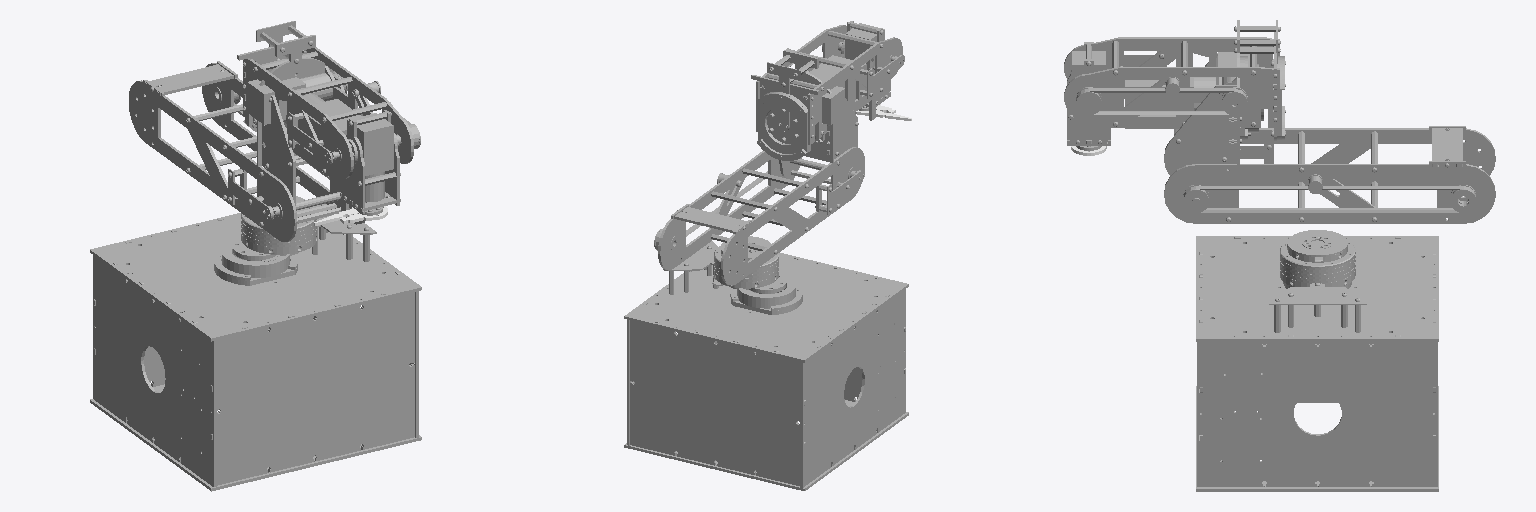
robot.urdf — urdf3:
<?xml version="1.0" encoding="utf-8"?>
<!-- This URDF was automatically created by SolidWorks to URDF Exporter! Originally created by [author] ([email redacted]) 
     Commit Version: 1.6.0-1-g15f4949  Build Version: 1.6.7594.29634
     For more information, please see http://wiki.ros.org/sw_urdf_exporter -->
<robot
  name="urdf3">
  <link
    name="base_link">
    <inertial>
      <origin
        xyz="-0.14899 0.15002 -0.0759"
        rpy="0 0 0" />
      <mass
        value="1.9822" />
      <inertia
        ixx="0.012049"
        ixy="1.1566E-08"
        ixz="1.8132E-07"
        iyy="0.011641"
        iyz="1.7455E-07"
        izz="0.016009" />
    </inertial>
    <visual>
      <origin
        xyz="0 0 0"
        rpy="0 0 0" />
      <geometry>
        <mesh
          filename="package://urdf3/meshes/base_link.STL" />
      </geometry>
      <material
        name="">
        <color
          rgba="0.75294 0.75294 0.75294 1" />
      </material>
    </visual>
    <collision>
      <origin
        xyz="0 0 0"
        rpy="0 0 0" />
      <geometry>
        <mesh
          filename="package://urdf3/meshes/base_link.STL" />
      </geometry>
    </collision>
  </link>
  <link
    name="link1">
    <inertial>
      <origin
        xyz="-0.0013865 0.15276 0.088653"
        rpy="0 0 0" />
      <mass
        value="1.3755" />
      <inertia
        ixx="0.0017311"
        ixy="4.6286E-06"
        ixz="5.0014E-06"
        iyy="0.002521"
        iyz="-0.00028073"
        izz="0.0030047" />
    </inertial>
    <visual>
      <origin
        xyz="0 0 0"
        rpy="0 0 0" />
      <geometry>
        <mesh
          filename="package://urdf3/meshes/link1.STL" />
      </geometry>
      <material
        name="">
        <color
          rgba="0.75294 0.75294 0.75294 1" />
      </material>
    </visual>
    <collision>
      <origin
        xyz="0 0 0"
        rpy="0 0 0" />
      <geometry>
        <mesh
          filename="package://urdf3/meshes/link1.STL" />
      </geometry>
    </collision>
  </link>
  <joint
    name="joint1"
    type="revolute">
    <origin
      xyz="-0.15 0.15 0.0375"
      rpy="0 0 0" />
    <parent
      link="base_link" />
    <child
      link="link1" />
    <axis
      xyz="0 0 1" />
    <limit
      lower="0"
      upper="0"
      effort="0"
      velocity="0" />
  </joint>
  <link
    name="link2">
    <inertial>
      <origin
        xyz="-0.17171 -0.0022525 0.037709"
        rpy="0 0 0" />
      <mass
        value="0.2987" />
      <inertia
        ixx="0.00016953"
        ixy="5.2701E-06"
        ixz="-9.0978E-13"
        iyy="0.0029683"
        iyz="-8.8435E-13"
        izz="0.0030499" />
    </inertial>
    <visual>
      <origin
        xyz="0 0 0"
        rpy="0 0 0" />
      <geometry>
        <mesh
          filename="package://urdf3/meshes/link2.STL" />
      </geometry>
      <material
        name="">
        <color
          rgba="0.75294 0.75294 0.75294 1" />
      </material>
    </visual>
    <collision>
      <origin
        xyz="0 0 0"
        rpy="0 0 0" />
      <geometry>
        <mesh
          filename="package://urdf3/meshes/link2.STL" />
      </geometry>
    </collision>
  </link>
  <joint
    name="joint2"
    type="revolute">
    <origin
      xyz="0.0495 0.18 0.118"
      rpy="-1.5708 0 1.5708" />
    <parent
      link="link1" />
    <child
      link="link2" />
    <axis
      xyz="0 0 -1" />
    <limit
      lower="0"
      upper="0"
      effort="0"
      velocity="0" />
  </joint>
  <link
    name="link3">
    <inertial>
      <origin
        xyz="0.0052197 -0.10068 -0.044998"
        rpy="0 0 0" />
      <mass
        value="0.69326" />
      <inertia
        ixx="0.00064304"
        ixy="3.0941E-05"
        ixz="-7.9077E-09"
        iyy="0.00097281"
        iyz="-6.2841E-09"
        izz="0.0011748" />
    </inertial>
    <visual>
      <origin
        xyz="0 0 0"
        rpy="0 0 0" />
      <geometry>
        <mesh
          filename="package://urdf3/meshes/link3.STL" />
      </geometry>
      <material
        name="">
        <color
          rgba="0.75294 0.75294 0.75294 1" />
      </material>
    </visual>
    <collision>
      <origin
        xyz="0 0 0"
        rpy="0 0 0" />
      <geometry>
        <mesh
          filename="package://urdf3/meshes/link3.STL" />
      </geometry>
    </collision>
  </link>
  <joint
    name="joint3"
    type="revolute">
    <origin
      xyz="-0.33 -0.00015681 0.095"
      rpy="0 0 0" />
    <parent
      link="link2" />
    <child
      link="link3" />
    <axis
      xyz="0 0 -1" />
    <limit
      lower="0"
      upper="0"
      effort="0"
      velocity="0" />
  </joint>
  <link
    name="link4">
    <inertial>
      <origin
        xyz="-0.0020304 -0.018808 0.072716"
        rpy="0 0 0" />
      <mass
        value="0.43855" />
      <inertia
        ixx="0.0009677"
        ixy="1.2408E-08"
        ixz="8.7228E-13"
        iyy="0.00096859"
        iyz="-5.1704E-06"
        izz="0.00033754" />
    </inertial>
    <visual>
      <origin
        xyz="0 0 0"
        rpy="0 0 0" />
      <geometry>
        <mesh
          filename="package://urdf3/meshes/link4.STL" />
      </geometry>
      <material
        name="">
        <color
          rgba="0.75294 0.75294 0.75294 1" />
      </material>
    </visual>
    <collision>
      <origin
        xyz="0 0 0"
        rpy="0 0 0" />
      <geometry>
        <mesh
          filename="package://urdf3/meshes/link4.STL" />
      </geometry>
    </collision>
  </link>
  <joint
    name="joint4"
    type="revolute">
    <origin
      xyz="0.091491 -0.10584 -0.045"
      rpy="0 -1.5708 0" />
    <parent
      link="link3" />
    <child
      link="link4" />
    <axis
      xyz="0 0 1" />
    <limit
      lower="0"
      upper="0"
      effort="0"
      velocity="0" />
  </joint>
  <link
    name="link5">
    <inertial>
      <origin
        xyz="7.4642E-05 -0.018439 -0.032488"
        rpy="0 0 0" />
      <mass
        value="0.2392" />
      <inertia
        ixx="0.00018859"
        ixy="9.6096E-07"
        ixz="-1.4516E-09"
        iyy="5.6612E-05"
        iyz="-1.1347E-08"
        izz="0.00020112" />
    </inertial>
    <visual>
      <origin
        xyz="0 0 0"
        rpy="0 0 0" />
      <geometry>
        <mesh
          filename="package://urdf3/meshes/link5.STL" />
      </geometry>
      <material
        name="">
        <color
          rgba="0.75294 0.75294 0.75294 1" />
      </material>
    </visual>
    <collision>
      <origin
        xyz="0 0 0"
        rpy="0 0 0" />
      <geometry>
        <mesh
          filename="package://urdf3/meshes/link5.STL" />
      </geometry>
    </collision>
  </link>
  <joint
    name="joint5"
    type="revolute">
    <origin
      xyz="-0.0305 -0.02185 0.224"
      rpy="3.1416 1.5708 0" />
    <parent
      link="link4" />
    <child
      link="link5" />
    <axis
      xyz="0 0 1" />
    <limit
      lower="0"
      upper="0"
      effort="0"
      velocity="0" />
  </joint>
  <link
    name="link6">
    <inertial>
      <origin
        xyz="0.017164 0.00018833 0.020914"
        rpy="0 0 0" />
      <mass
        value="0.021655" />
      <inertia
        ixx="6.5964E-06"
        ixy="-1.7068E-07"
        ixz="-4.4864E-22"
        iyy="1.0789E-05"
        iyz="8.5778E-21"
        izz="7.0208E-06" />
    </inertial>
    <visual>
      <origin
        xyz="0 0 0"
        rpy="0 0 0" />
      <geometry>
        <mesh
          filename="package://urdf3/meshes/link6.STL" />
      </geometry>
      <material
        name="">
        <color
          rgba="0.75294 0.75294 0.75294 1" />
      </material>
    </visual>
    <collision>
      <origin
        xyz="0 0 0"
        rpy="0 0 0" />
      <geometry>
        <mesh
          filename="package://urdf3/meshes/link6.STL" />
      </geometry>
    </collision>
  </link>
  <joint
    name="joint6"
    type="revolute">
    <origin
      xyz="0 -0.086 -0.0305"
      rpy="1.5708 1.5708 0" />
    <parent
      link="link5" />
    <child
      link="link6" />
    <axis
      xyz="0 0 1" />
    <limit
      lower="0"
      upper="0"
      effort="0"
      velocity="0" />
  </joint>
  <link
    name="gripper">
    <inertial>
      <origin
        xyz="-0.06479 -0.00053725 -0.002"
        rpy="0 0 0" />
      <mass
        value="0.008813" />
      <inertia
        ixx="9.1247E-07"
        ixy="-1.7068E-07"
        ixz="-7.5867E-22"
        iyy="4.3239E-06"
        iyz="-6.6451E-23"
        izz="5.2128E-06" />
    </inertial>
    <visual>
      <origin
        xyz="0 0 0"
        rpy="0 0 0" />
      <geometry>
        <mesh
          filename="package://urdf3/meshes/gripper.STL" />
      </geometry>
      <material
        name="">
        <color
          rgba="1 1 1 1" />
      </material>
    </visual>
    <collision>
      <origin
        xyz="0 0 0"
        rpy="0 0 0" />
      <geometry>
        <mesh
          filename="package://urdf3/meshes/gripper.STL" />
      </geometry>
    </collision>
  </link>
  <joint
    name="g"
    type="fixed">
    <origin
      xyz="0.078254 0.001 0.004"
      rpy="0 0 0" />
    <parent
      link="link6" />
    <child
      link="gripper" />
    <axis
      xyz="0 0 0" />
  </joint>
</robot>

--- What the picture shows (computed from the rendered views, not written in the file) ---
3 views of the same robot in one strip: view 1: azimuth 30°, elevation 25°; view 2: azimuth 150°, elevation 25°; view 3: azimuth 270°, elevation 25° (orthographic).
Robot: urdf3 — 8 links, 7 joints (6 revolute, 1 fixed); root link base_link; default pose: every joint at zero.
Visible links, largest first — view 1: base_link, link2, link4, link3, link5, link1, gripper; view 2: base_link, link2, link4, link3, link5, link1; view 3: base_link, link2, link4, link3, link1, link5.
Link boxes in pixels (left/top/right/bottom): base_link: left=90, top=204, right=421, bottom=491; link2: left=129, top=61, right=364, bottom=241; link4: left=237, top=47, right=420, bottom=178; link3: left=256, top=21, right=360, bottom=223; link5: left=331, top=110, right=401, bottom=215; link1: left=241, top=196, right=316, bottom=261; gripper: left=314, top=206, right=387, bottom=225; base_link: left=624, top=241, right=908, bottom=490; link2: left=654, top=147, right=864, bottom=285; link4: left=751, top=25, right=904, bottom=160; link3: left=767, top=50, right=866, bottom=183; link5: left=838, top=21, right=897, bottom=120; link1: left=712, top=236, right=778, bottom=289; base_link: left=1196, top=236, right=1438, bottom=491; link2: left=1164, top=126, right=1495, bottom=223; link4: left=1064, top=32, right=1285, bottom=140; link3: left=1125, top=20, right=1280, bottom=171; link1: left=1280, top=230, right=1355, bottom=286; link5: left=1067, top=42, right=1110, bottom=150.
Size in the robot's own frame: 0.3 by 0.5332 by 0.5595 metres.
Meshes: 8 distinct files referenced, 7 mesh visuals loaded (7 binary STL); not drawn: 1 (reference not matched to a file when rendering).
